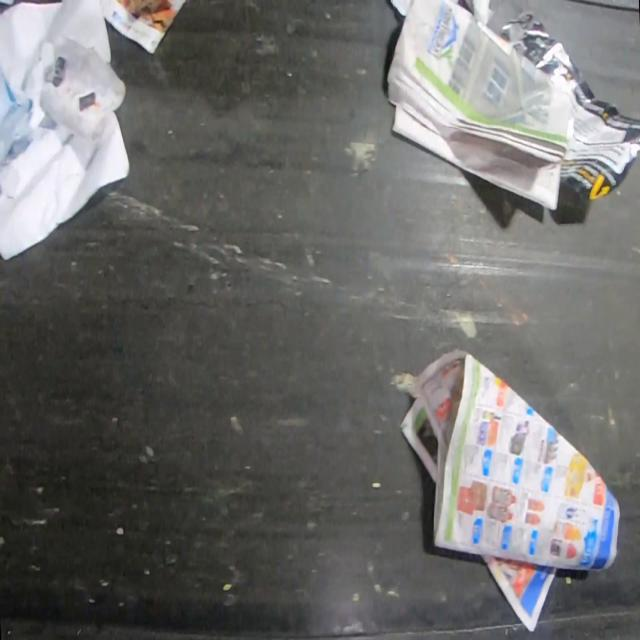soft_plastic: (0, 61, 33, 172)
